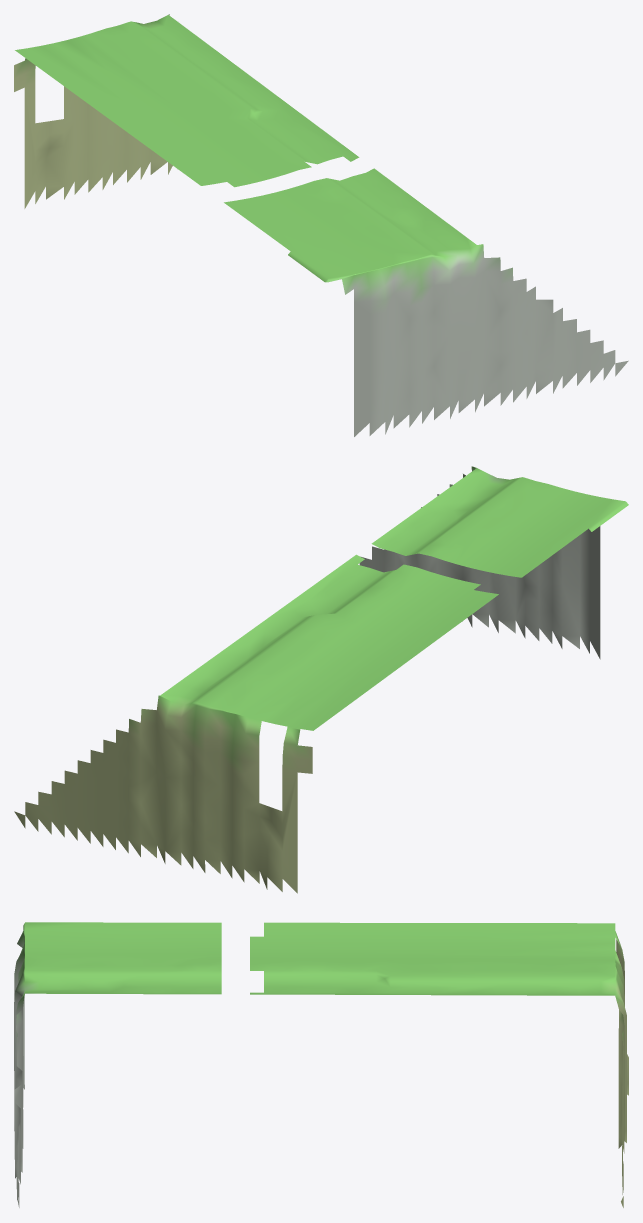
Rendered from tile_7e4ccbd5fe0e_0_-1_1_0_lod1.glb.
The picture shows the model from 3 angles, top to bottom: view 1: azimuth 30°, elevation 25°; view 2: azimuth 150°, elevation 25°; view 3: azimuth 270°, elevation 25°; orthographic projection. The views are drawn at different scales.
Size of the model in its own units: 1.86 by 0.9775 by 3.5.
